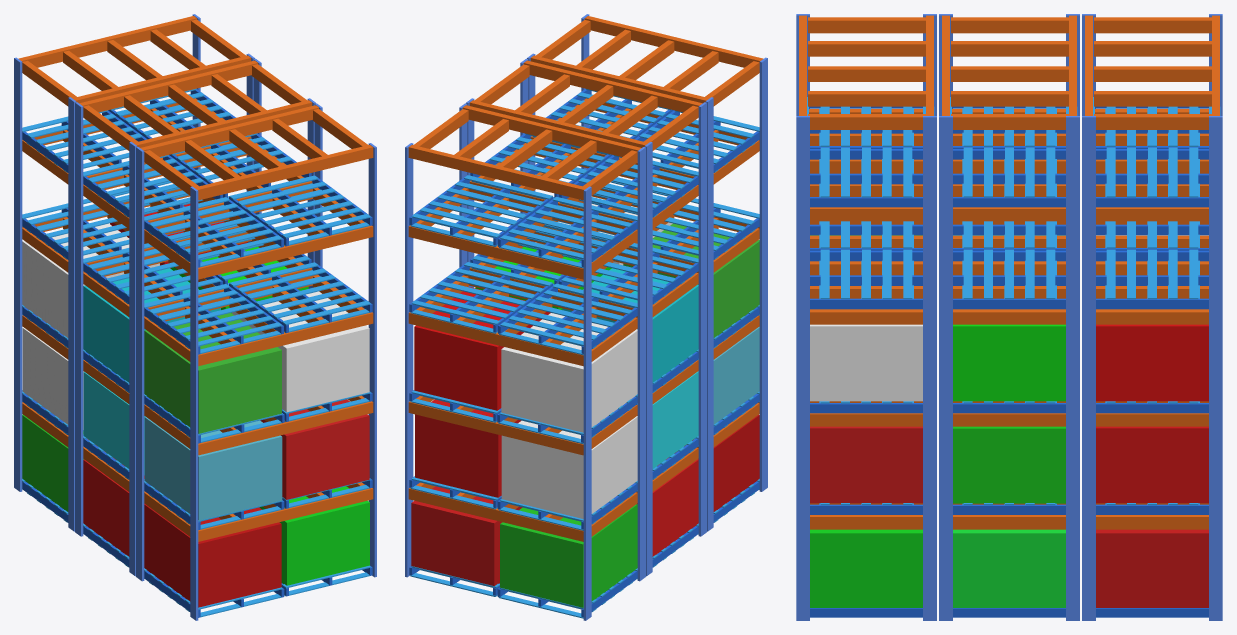
File: met4racks.glb
3 views of the same model, side by side, from view 1: azimuth 30°, elevation 25°; view 2: azimuth 150°, elevation 25°; view 3: azimuth 270°, elevation 25° (orthographic). The views are drawn at different scales.
Visible parts, largest first — view 1: post (×8), bars (×12), Box6 (×3), Box4 (×3), Box2 (×3), barsH5 (×15), Box5, Box1, Box3, barsH2 (×3), barsH3 (×3), barsH4 (×3) (+1 smaller); view 2: post (×8), bars (×12), Box6 (×3), Box2 (×3), Box4 (×3), barsH5 (×15), Box5, Box1, Box3, barsH3 (×3), barsH4 (×3), barsH1 (×3) (+1 smaller); view 3: post (×6), Box1 (×3), Box5 (×3), Box3 (×3), barsH1 (×15), wood1 (×12), barsH3 (×9), barsH2 (×9), barsH4 (×9), wood3 (×9), barsH5 (×3), wood4 (×6) (+2 smaller).
Part boxes in pixels (x1,y1,x2,y2): post (×8): (14, 57, 376, 620); bars (×12): (18, 16, 373, 541); Box6 (×3): (22, 223, 281, 433); Box4 (×3): (22, 327, 282, 520); Box2 (×3): (22, 414, 281, 607); barsH5 (×15): (22, 60, 198, 536); Box5: (232, 291, 369, 412); Box1: (259, 486, 369, 585); Box3: (260, 399, 369, 499); barsH2 (×3): (150, 29, 327, 158); barsH3 (×3): (107, 40, 284, 169); barsH4 (×3): (63, 50, 239, 180); post (×8): (405, 57, 767, 620); bars (×12): (408, 16, 763, 541); Box6 (×3): (501, 223, 759, 432); Box2 (×3): (500, 415, 759, 607); Box4 (×3): (501, 326, 759, 518); barsH5 (×15): (583, 61, 759, 536); Box5: (414, 287, 550, 410); Box1: (411, 486, 522, 586); Box3: (415, 399, 521, 497); barsH3 (×3): (497, 40, 674, 169); barsH4 (×3): (542, 51, 718, 180); barsH1 (×3): (414, 20, 590, 148); post (×6): (796, 116, 1222, 620); Box1 (×3): (810, 529, 1208, 607); Box5 (×3): (810, 324, 1208, 401); Box3 (×3): (810, 426, 1208, 503); barsH1 (×15): (808, 114, 1211, 529); wood1 (×12): (810, 197, 1208, 514); barsH3 (×9): (808, 66, 1211, 275); barsH2 (×9): (808, 91, 1211, 298); barsH4 (×9): (808, 41, 1211, 247); wood3 (×9): (810, 173, 1208, 285); barsH5 (×3): (808, 17, 1211, 33); wood4 (×6): (810, 149, 1208, 261).
Bounding box in the file's own units: 2.96 × 6.73 × 5.17.
